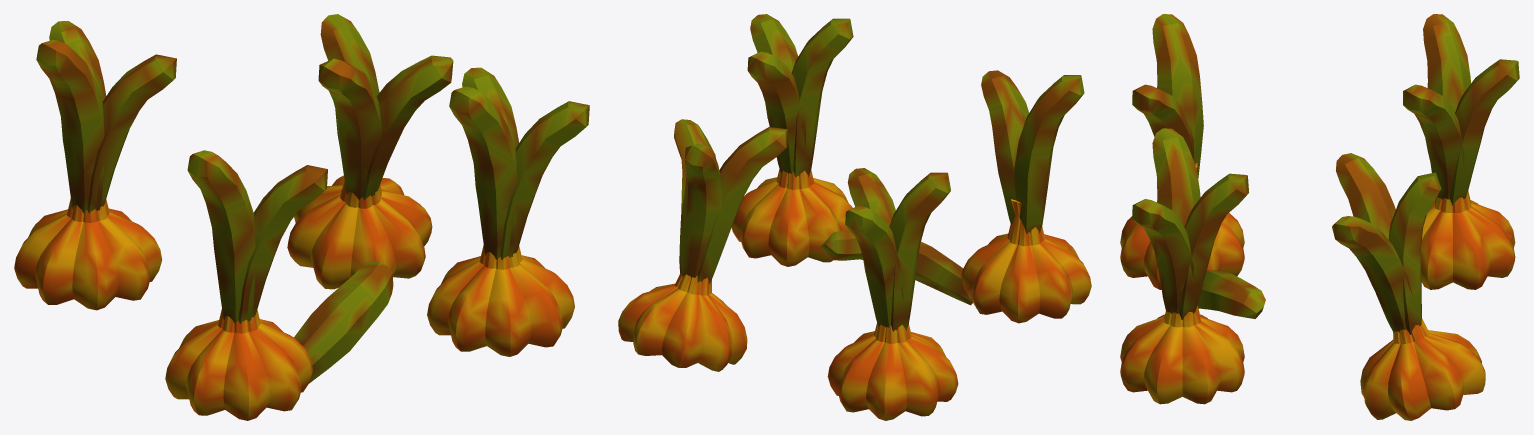
Rendered from Farm_Crop_Garlic_Dead.fbx.
The picture shows the model from 3 angles, left to right: view 1: azimuth 30°, elevation 25°; view 2: azimuth 150°, elevation 25°; view 3: azimuth 270°, elevation 25°; orthographic projection. The views are drawn at different scales.
Parts seen in each view (by area): view 1: Farm_Crop_Garlic_Dead; view 2: Farm_Crop_Garlic_Dead; view 3: Farm_Crop_Garlic_Dead.
Boxes of the visible parts, x1,y1,x2,y2 form: Farm_Crop_Garlic_Dead: (14, 14, 589, 420); Farm_Crop_Garlic_Dead: (618, 14, 1091, 420); Farm_Crop_Garlic_Dead: (1120, 14, 1519, 420).
Bounding box in the file's own units: 149 × 108 × 148.
